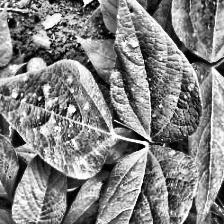Bean Rust: (98, 0, 201, 144), (0, 60, 102, 174), (90, 144, 201, 224), (172, 0, 224, 57), (0, 1, 19, 68)
